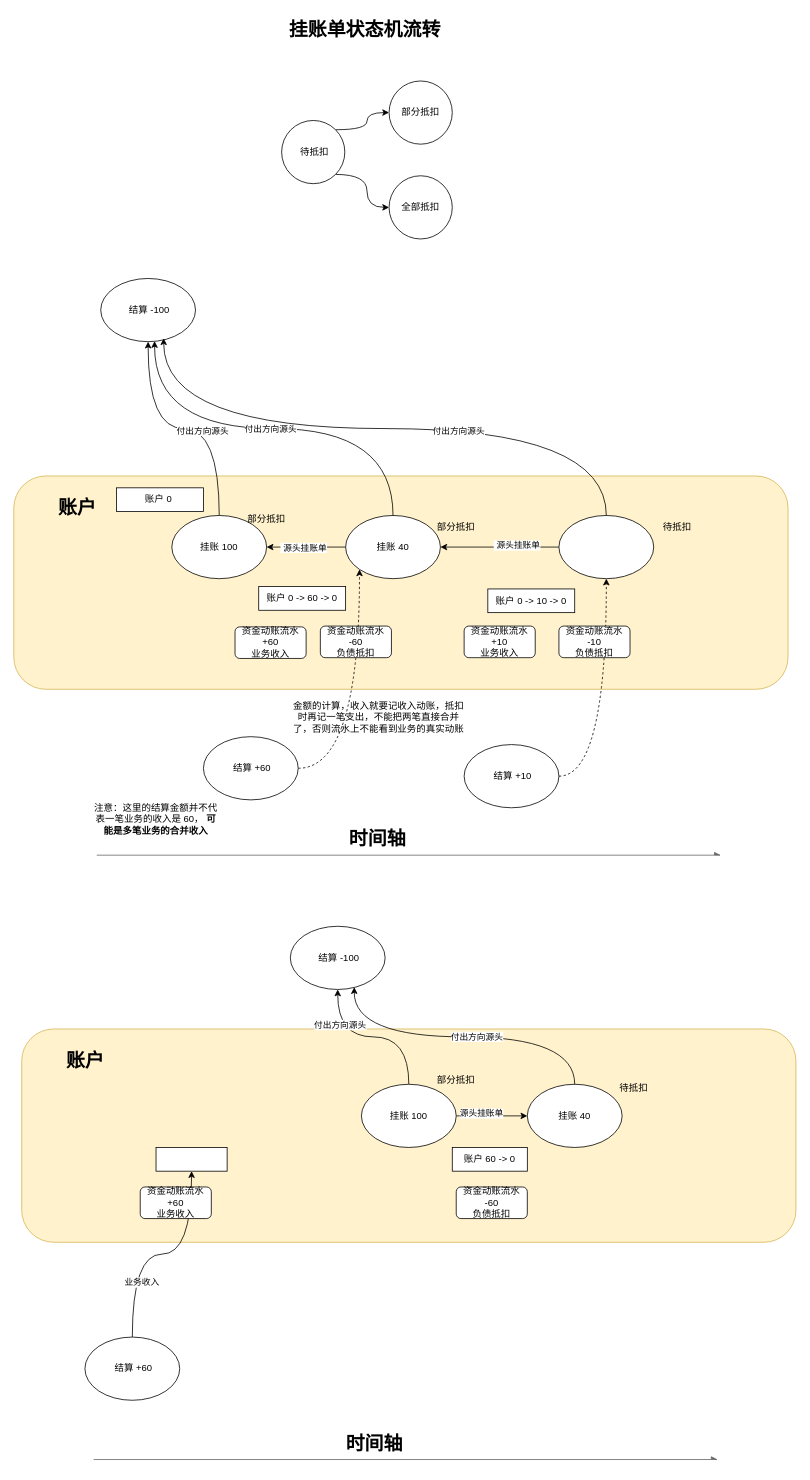
Image size: 810x1480. Some labels were removed from this diagram. The shapes that lost their labels are listed below. From the top down, each one's box as (x1, y1, x2, y2) in pixels, then its label:
(558, 515, 654, 579): 挂账 30
(155, 1147, 227, 1171): 账户 0 -> 60
